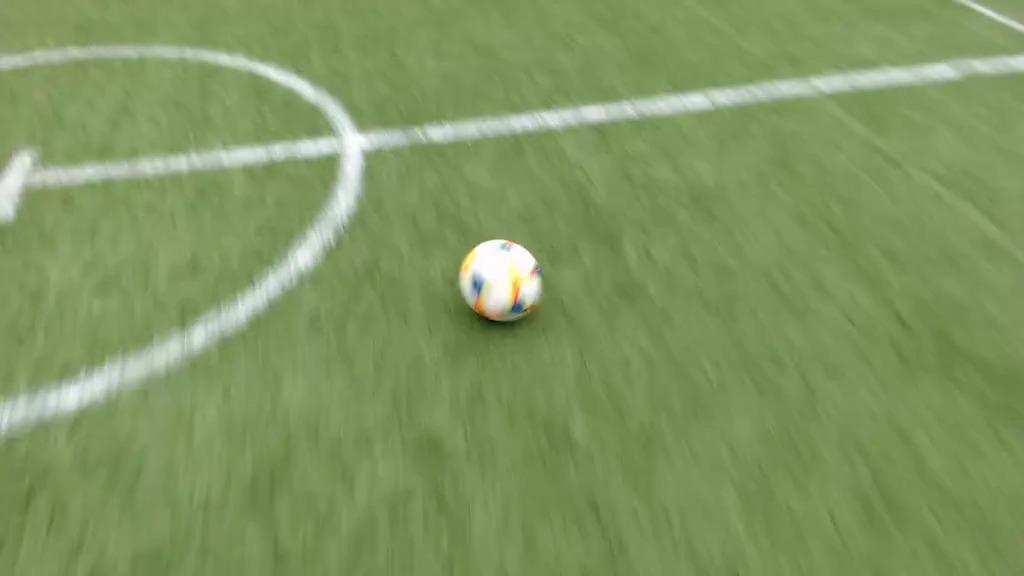ball: (461, 239, 541, 325)
